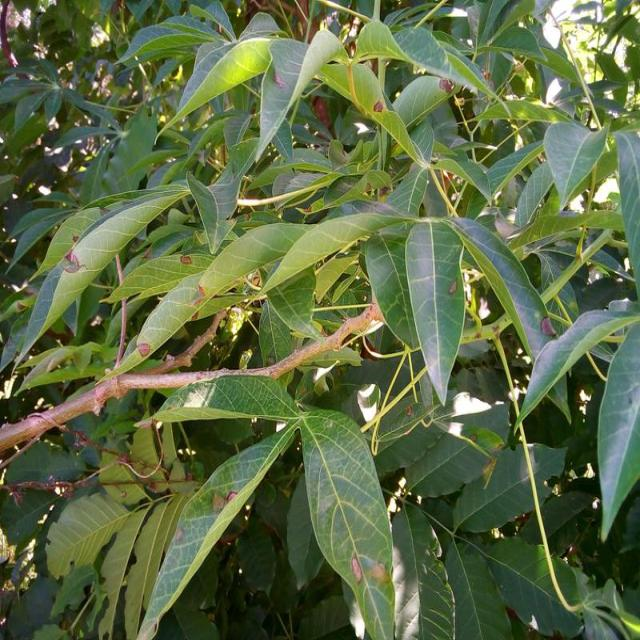cassava leaf: (1, 1, 638, 638), (297, 404, 395, 638), (403, 216, 466, 407)
